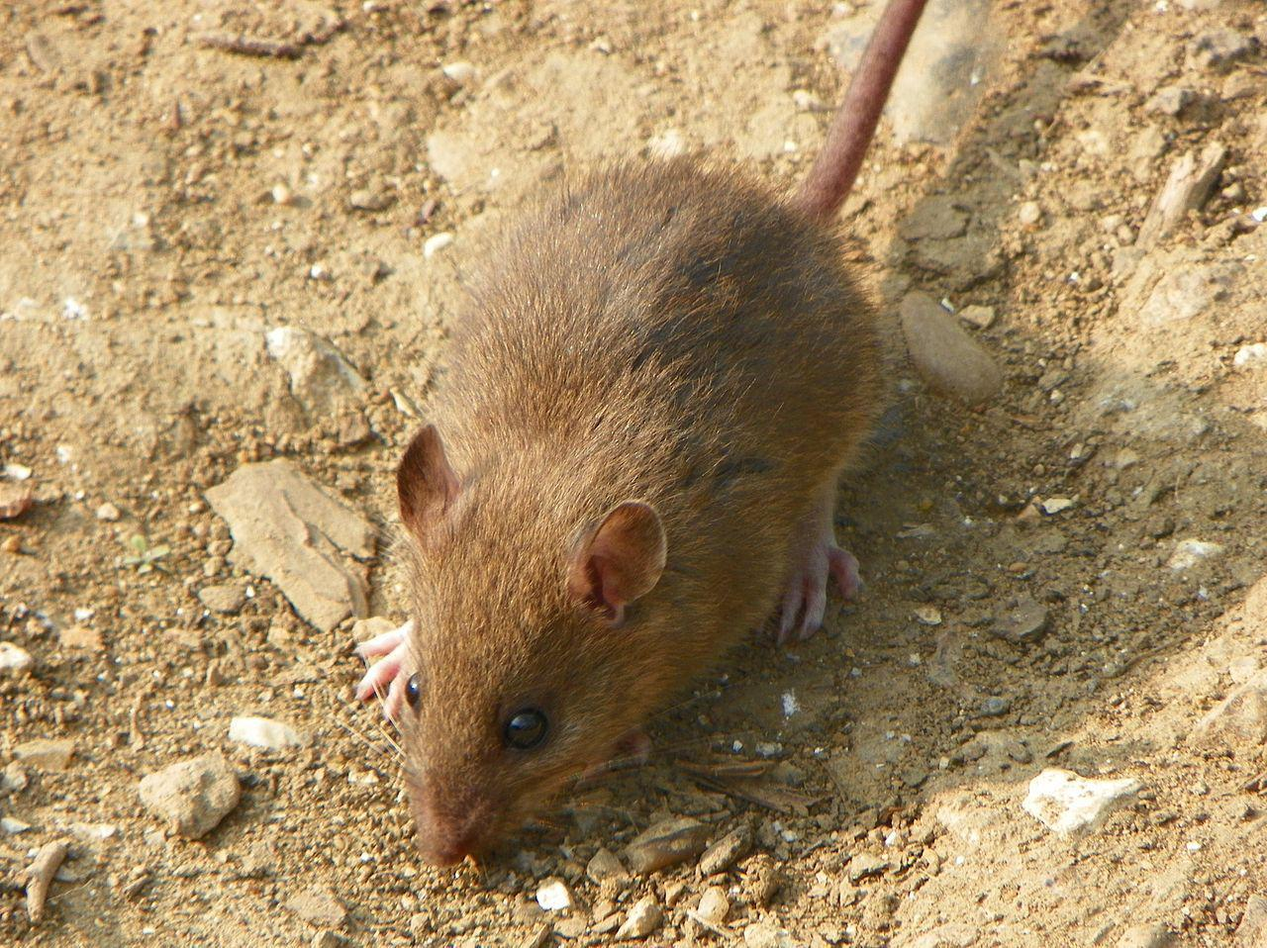rat: (352, 0, 928, 872)
